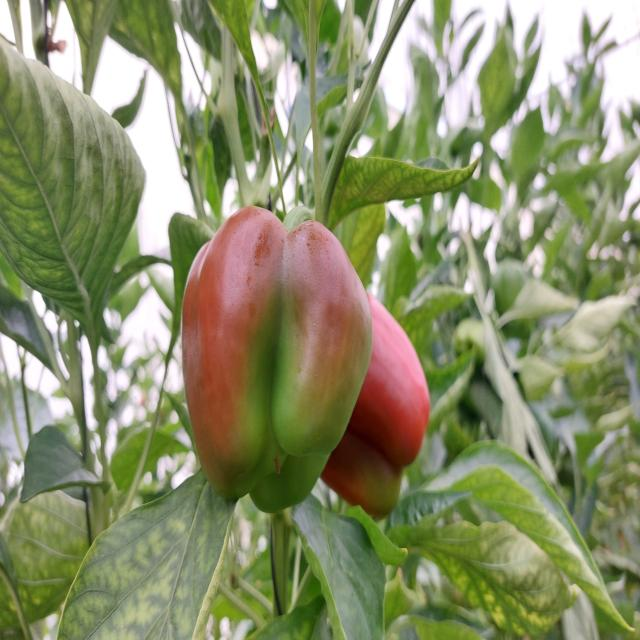BrownishRed--Can-be-Harvested: (173, 209, 360, 499), (322, 291, 434, 518)
